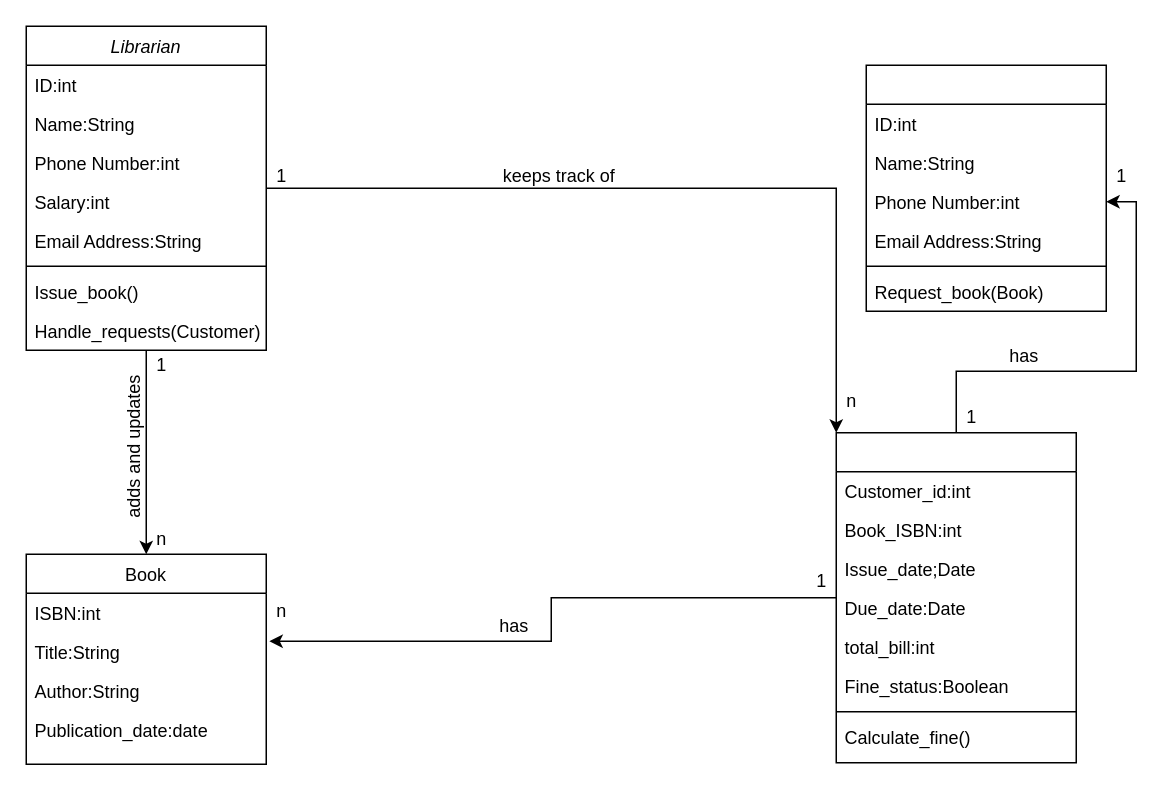
The diagram is 1175 pixels wide and 791 high, and some of its shapes have lost their labels. The shapes that lost their labels are listed below. From the top down, each one's box as (x1, y1, x2, y2) in pixels, then its label:
(865, 64, 1106, 311): Customer
(835, 431, 1076, 763): Agreement
